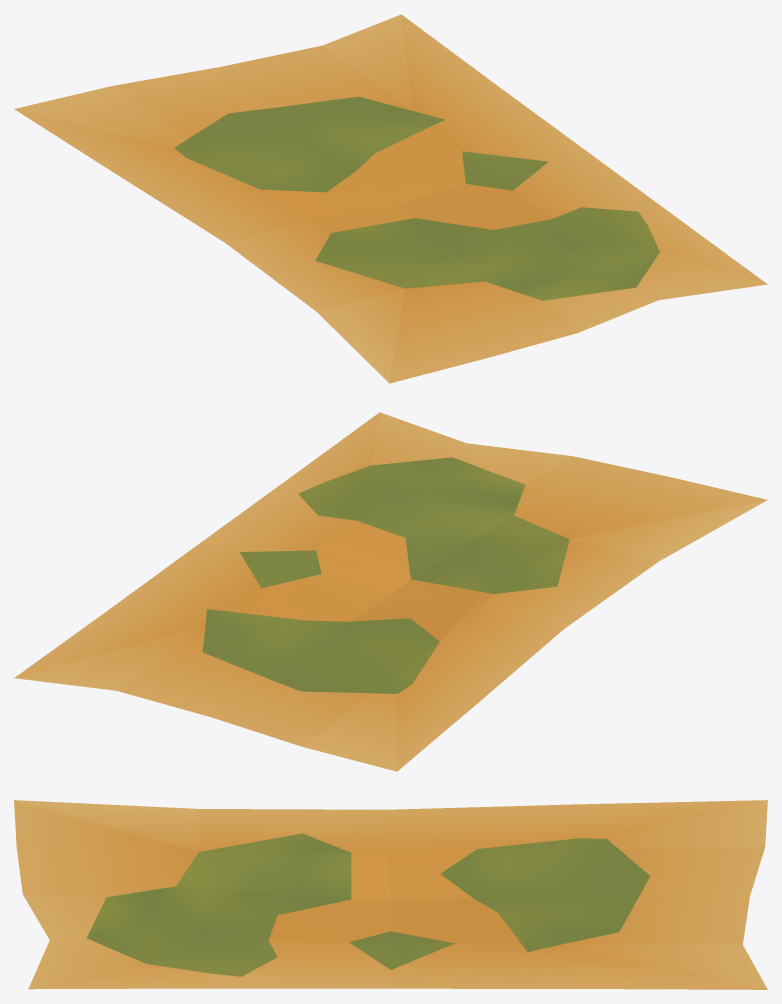
Rendered from obj_Map.fbx.
3 views of the same model, one above another, from view 1: azimuth 30°, elevation 25°; view 2: azimuth 150°, elevation 25°; view 3: azimuth 270°, elevation 25° (orthographic).
Parts seen in each view (by area): view 1: obj_Map; view 2: obj_Map; view 3: obj_Map.
Part boxes in pixels (x1,y1,x2,y2): obj_Map: [14, 14, 767, 383]; obj_Map: [14, 412, 767, 771]; obj_Map: [14, 800, 767, 989].
Bounding box in the file's own units: 46.09 × 0.8752 × 77.34.
